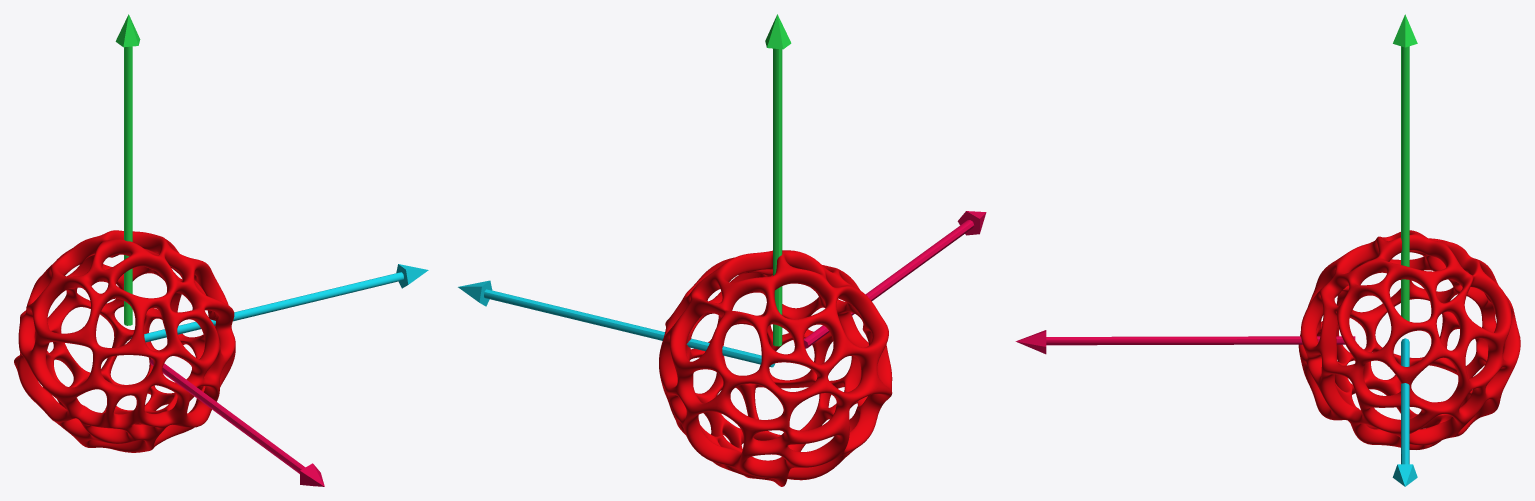
Rendered from abstractgumball.gltf.
3 views of the same model, side by side, from view 1: azimuth 30°, elevation 25°; view 2: azimuth 150°, elevation 25°; view 3: azimuth 270°, elevation 25° (orthographic). The views are drawn at different scales.
Visible parts, largest first — view 1: VoronoiDyno.Bake, Arrow, Arrow_Material_0.001, Arrow_Material_0.002; view 2: VoronoiDyno.Bake, Arrow, Arrow_Material_0.001, Arrow_Material_0.002; view 3: VoronoiDyno.Bake, Arrow_Material_0.002, Arrow, Arrow_Material_0.001.
Part boxes in pixels (x1,y1,x2,y2): VoronoiDyno.Bake: (14,230,235,452); Arrow: (115,14,140,325); Arrow_Material_0.001: (130,264,428,342); Arrow_Material_0.002: (150,358,324,486); VoronoiDyno.Bake: (659,250,892,486); Arrow: (765,14,791,346); Arrow_Material_0.001: (458,280,774,367); Arrow_Material_0.002: (803,211,986,348); VoronoiDyno.Bake: (1298,230,1520,449); Arrow_Material_0.002: (1015,330,1355,354); Arrow: (1393,14,1417,321); Arrow_Material_0.001: (1392,338,1417,486).
Bounding box in the file's own units: 143 × 148 × 158.
